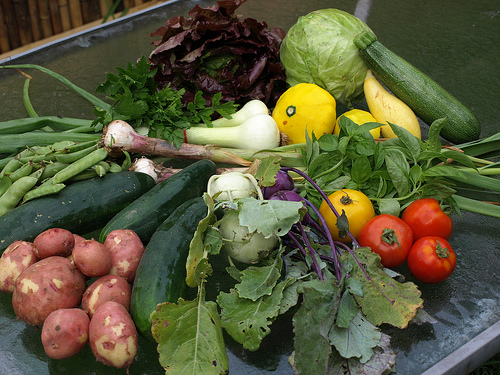cabbage: (279, 6, 376, 103)
